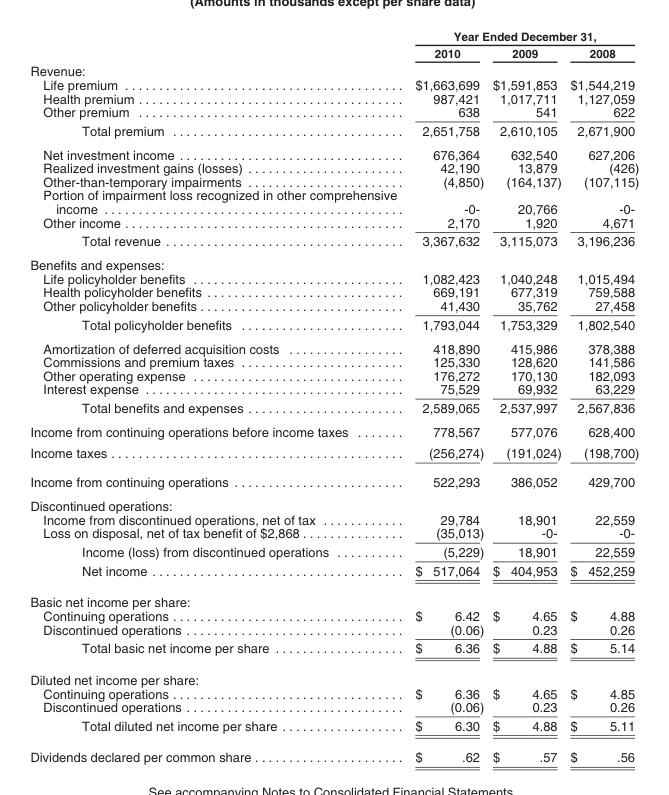table: (29, 28, 638, 764)
table column: (29, 28, 405, 764), (405, 28, 487, 764), (487, 28, 565, 764), (565, 28, 638, 764)
table column header: (29, 28, 638, 61)
table projected row header: (29, 663, 638, 686), (29, 586, 638, 608), (29, 252, 638, 271), (29, 493, 638, 512), (29, 61, 638, 77)
table row: (29, 188, 638, 215), (29, 467, 638, 493), (29, 560, 638, 586), (29, 715, 638, 741), (29, 442, 638, 467), (29, 638, 638, 663), (29, 419, 638, 442), (29, 663, 638, 686), (29, 741, 638, 764), (29, 120, 638, 142), (29, 314, 638, 336), (29, 586, 638, 608), (29, 231, 638, 252), (29, 398, 638, 419), (29, 252, 638, 271), (29, 493, 638, 512), (29, 142, 638, 160), (29, 336, 638, 354), (29, 542, 638, 560), (29, 44, 638, 61), (29, 381, 638, 398), (29, 525, 638, 542), (29, 28, 638, 44), (29, 61, 638, 77), (29, 104, 638, 120), (29, 215, 638, 231), (29, 298, 638, 314), (29, 622, 638, 638), (29, 699, 638, 715), (29, 77, 638, 91), (29, 160, 638, 174), (29, 174, 638, 188), (29, 271, 638, 285), (29, 354, 638, 368), (29, 608, 638, 622), (29, 91, 638, 104), (29, 285, 638, 298), (29, 368, 638, 381), (29, 512, 638, 525), (29, 686, 638, 699)
table spanning cell: (405, 28, 638, 44)
